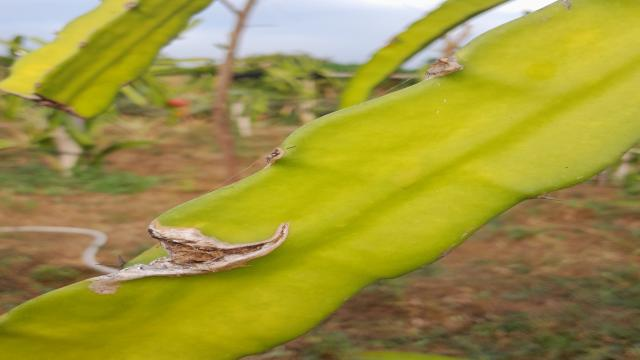stemcanker: (420, 51, 468, 82), (252, 143, 292, 173)
